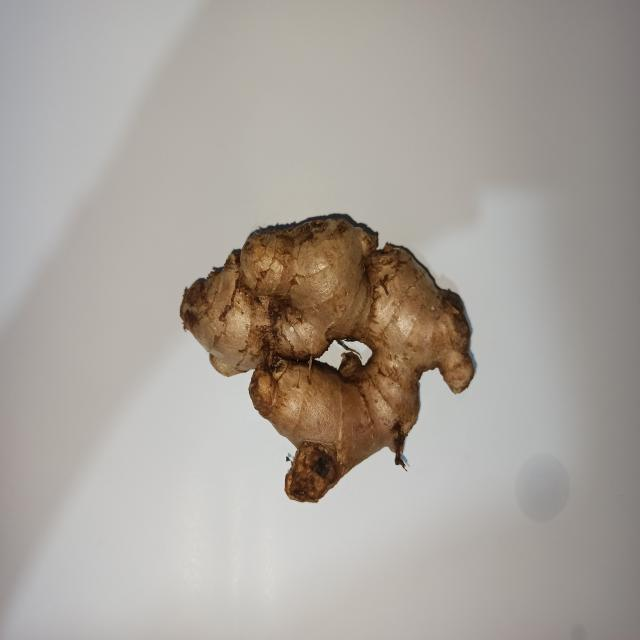ginger: (186, 218, 472, 496)
